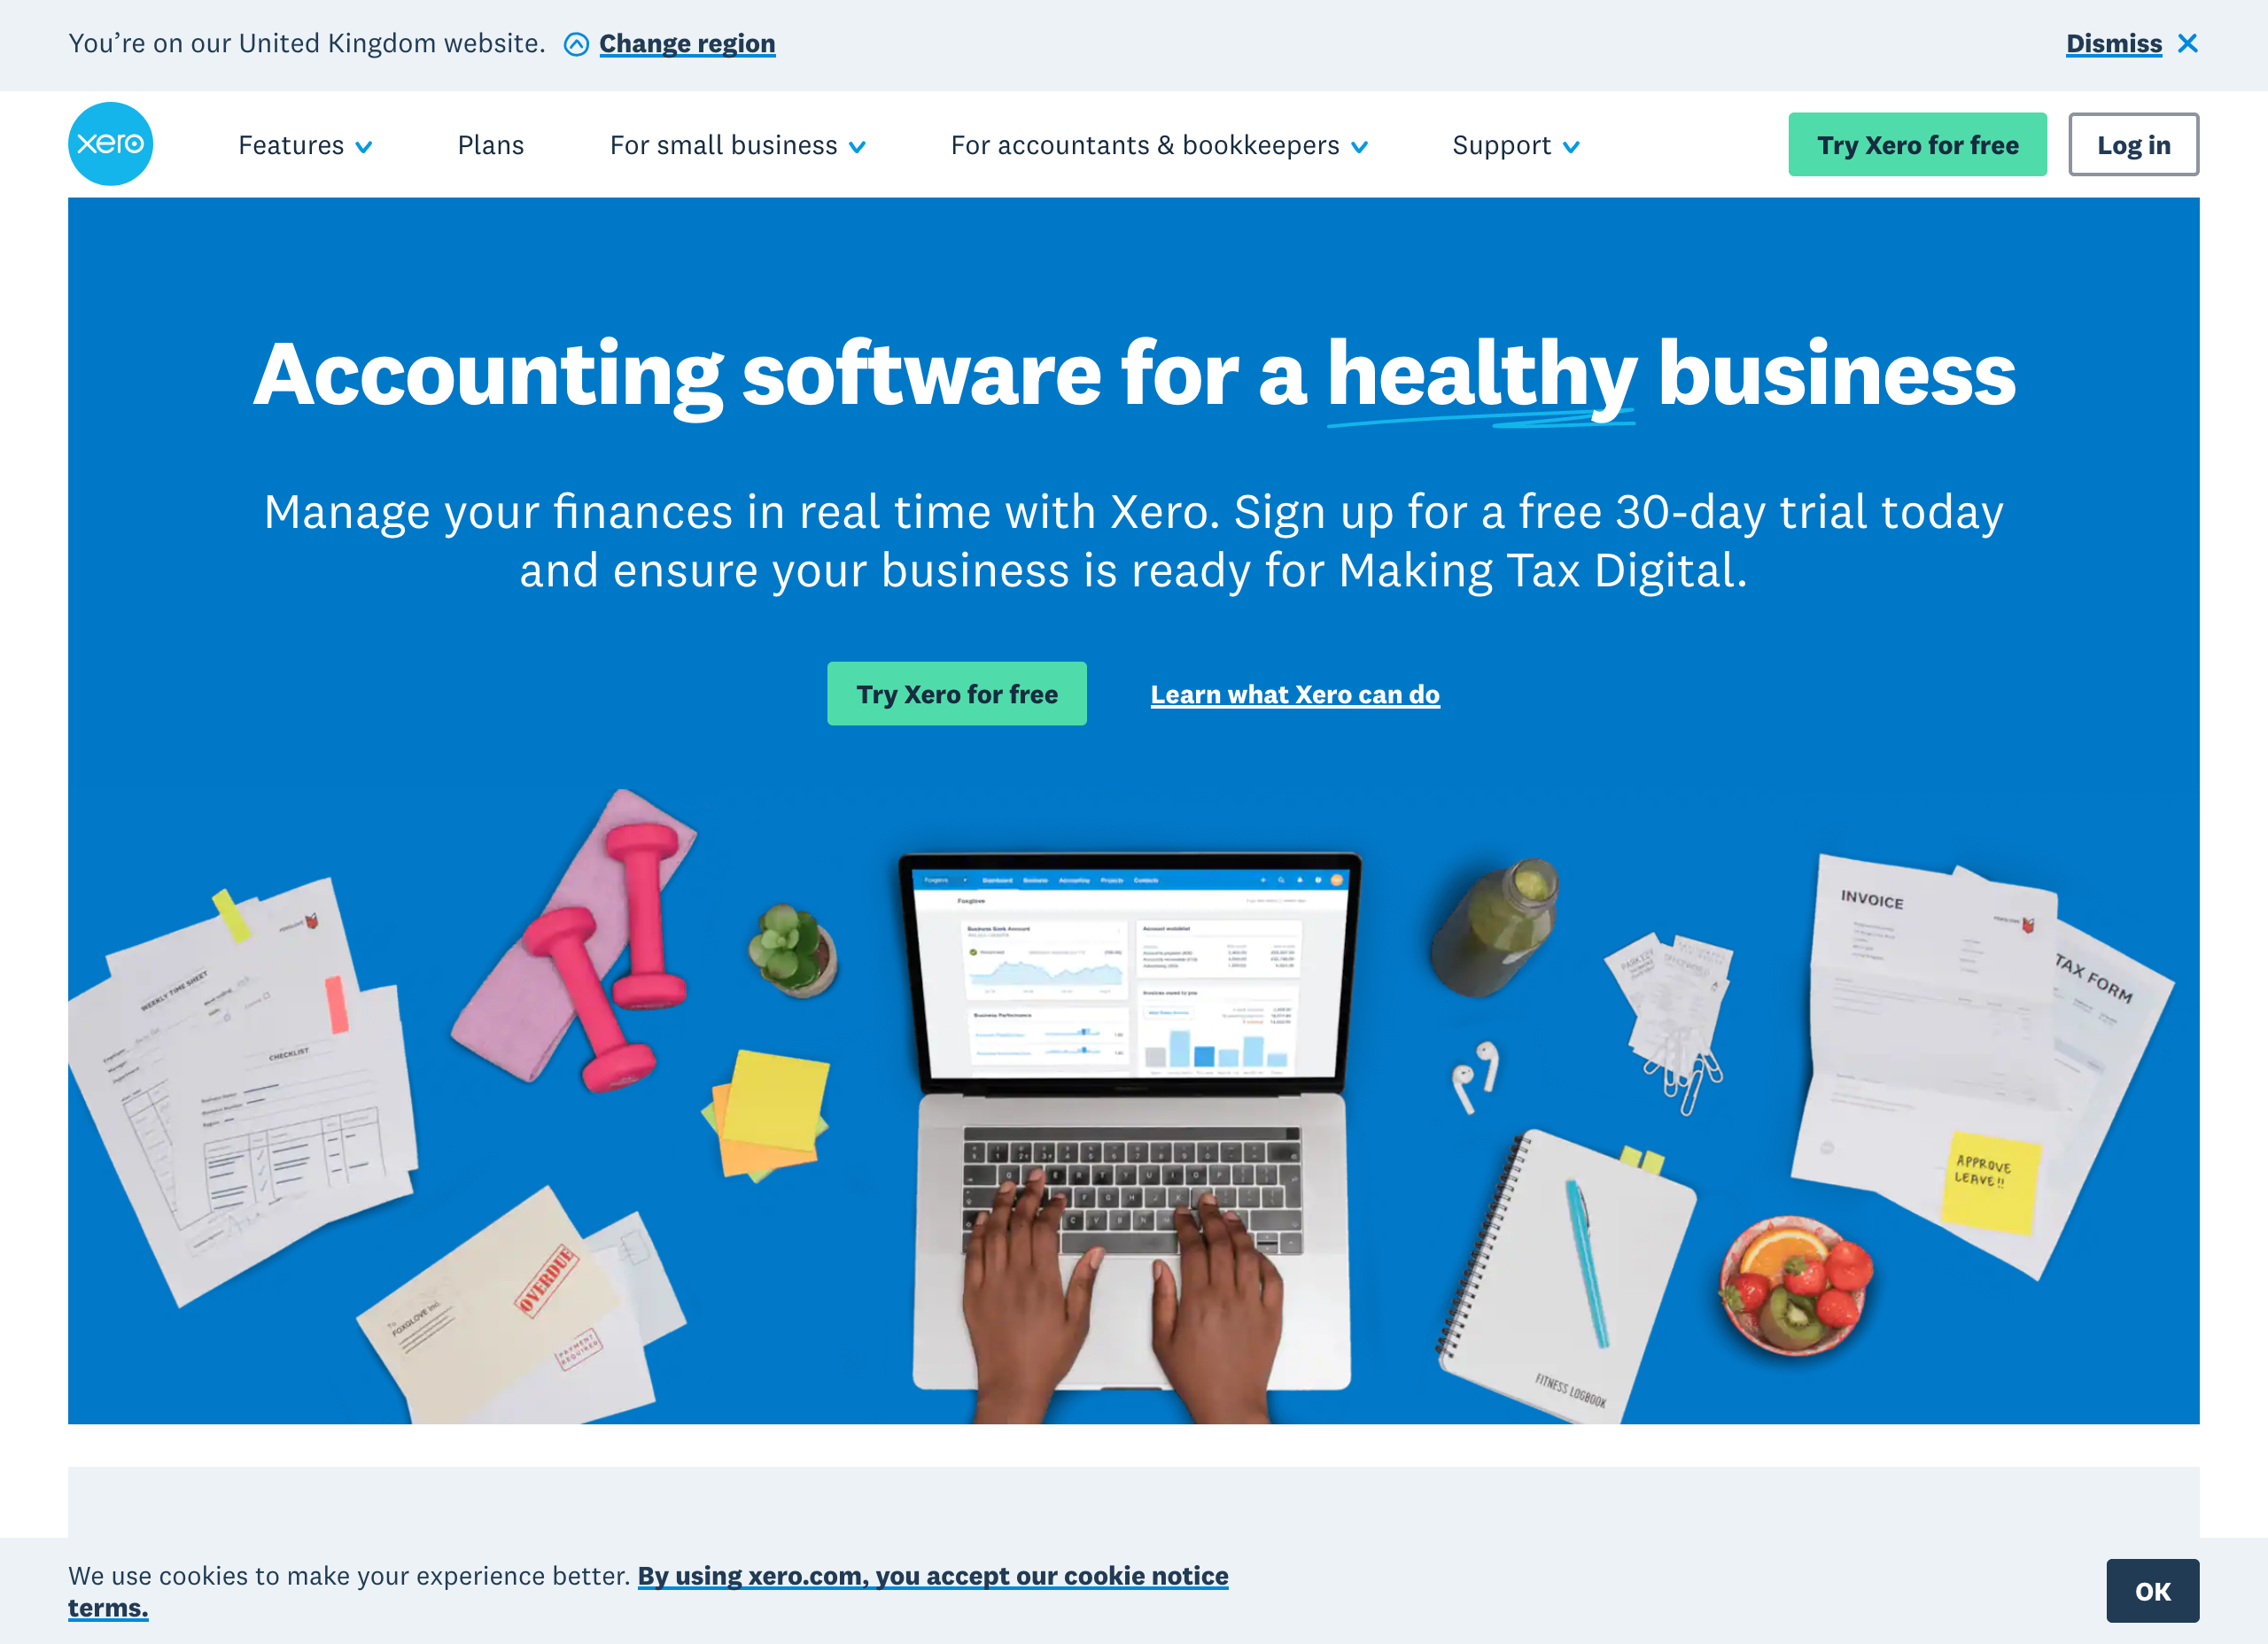Login: (2057, 93, 2208, 188)
